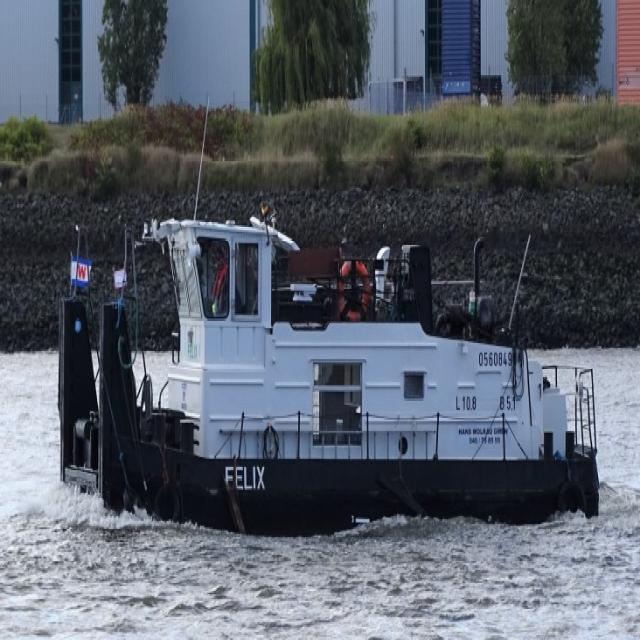tugboat: (54, 205, 605, 533)
